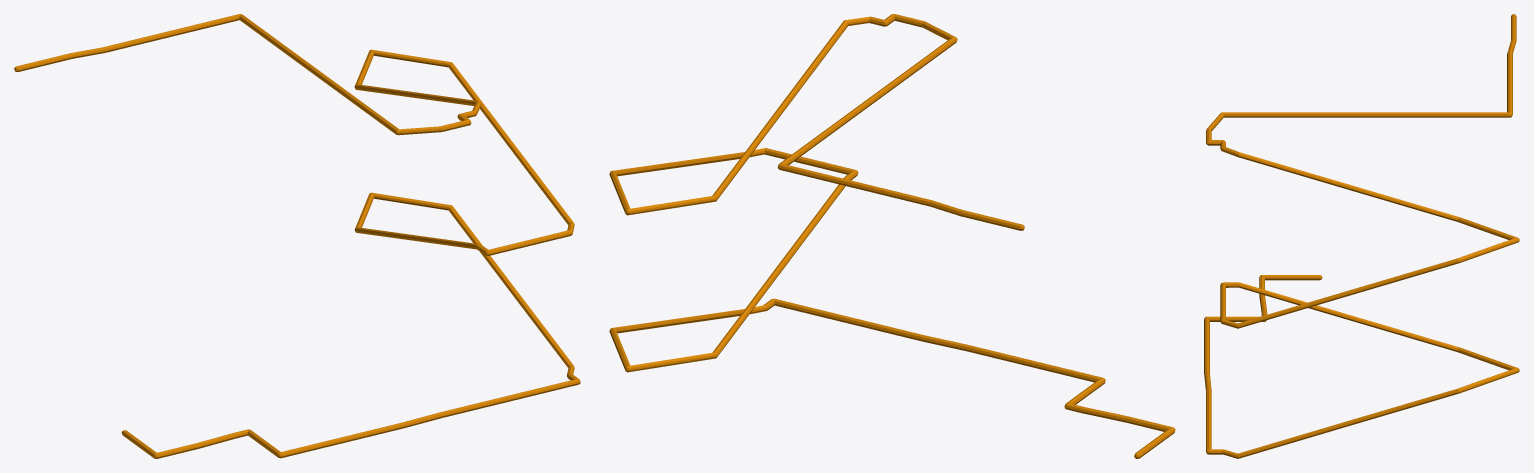
3 views of the same model, side by side, from view 1: azimuth 30°, elevation 25°; view 2: azimuth 150°, elevation 25°; view 3: azimuth 270°, elevation 25° (orthographic). The views are drawn at different scales.
Size of the model in its own units: 1495 by 1020 by 1098.
